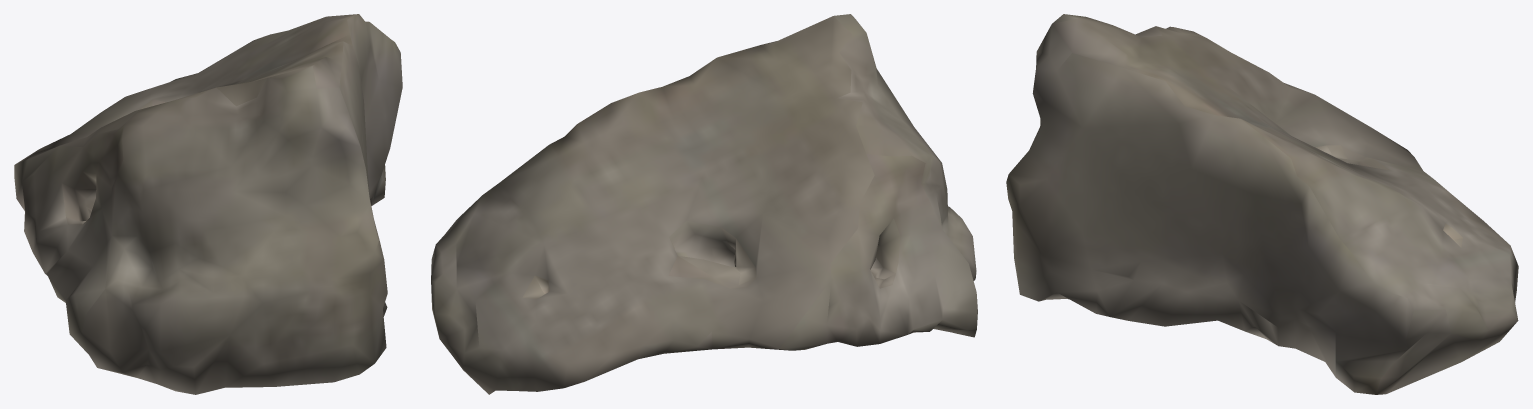
The model's file is ph_moonrock_6.glb.
3 views of the same model, side by side, from view 1: azimuth 30°, elevation 25°; view 2: azimuth 150°, elevation 25°; view 3: azimuth 270°, elevation 25° (orthographic). The views are drawn at different scales.
Visible parts, largest first — view 1: ph_moonrock_6_lod1; view 2: ph_moonrock_6_lod1; view 3: ph_moonrock_6_lod1.
Boxes of the visible parts, <box> form: ph_moonrock_6_lod1: <box>14,14,402,394</box>; ph_moonrock_6_lod1: <box>431,14,977,394</box>; ph_moonrock_6_lod1: <box>1006,14,1518,394</box>.
Size of the model in its own units: 0.0857 by 0.055 by 0.0918.
1 material, 1 textured.
